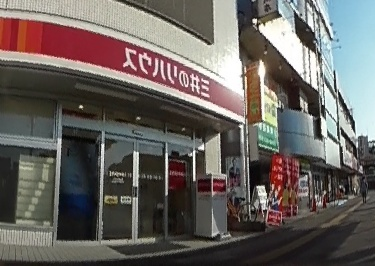person: (358, 174, 369, 202)
